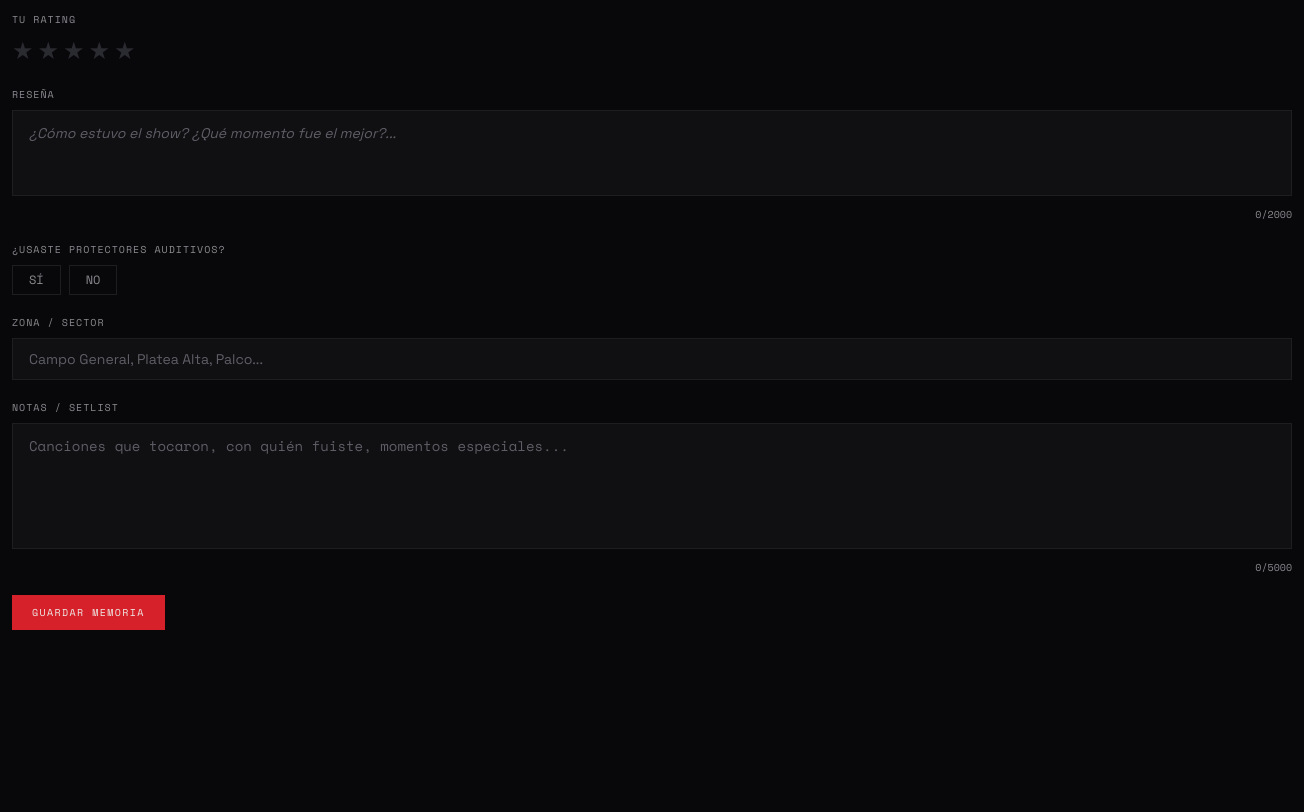
Scenario: RatingAndReviewForm › shows "✓ Guardado" after a successful save
Click the button "Guardar memoria".
click(88, 612)  # box [12,595,165,630]
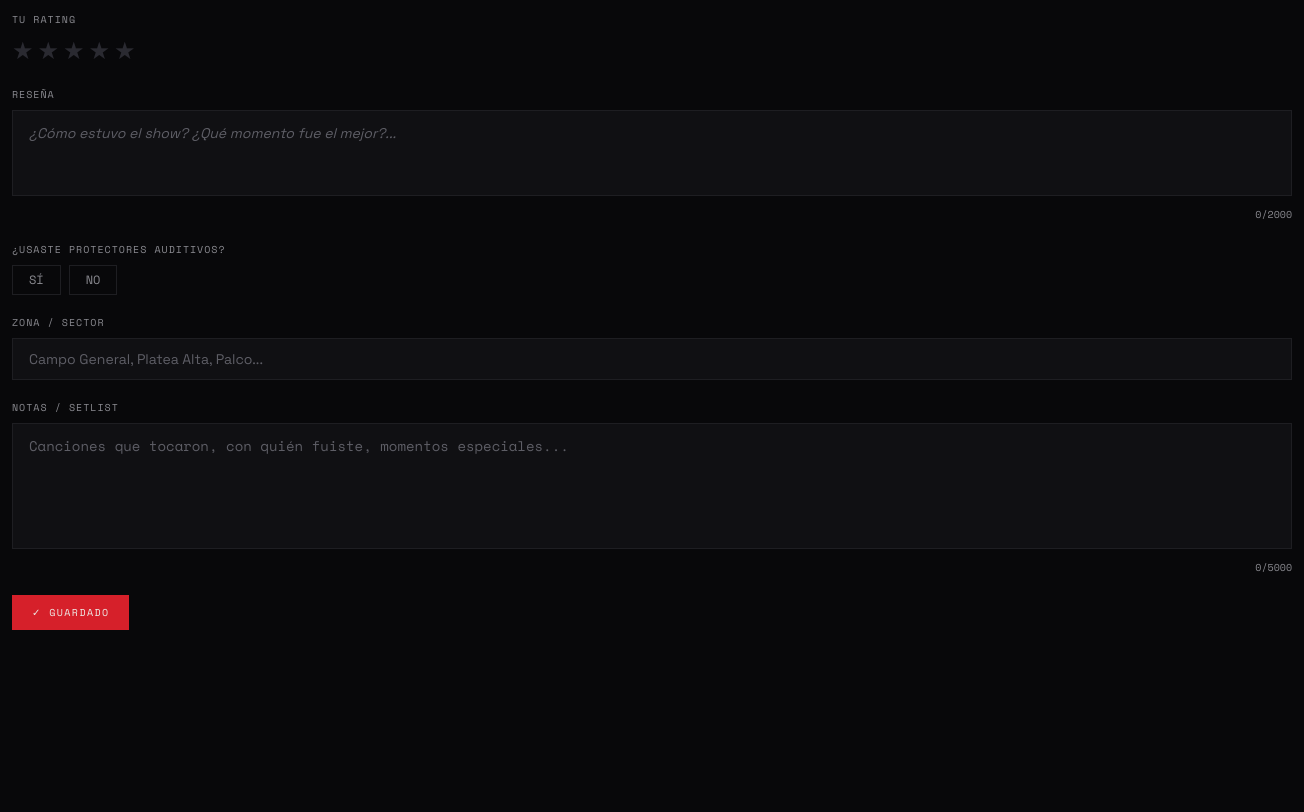
Expected: the button "✓ Guardado" is shown, [12,595,130,630]
